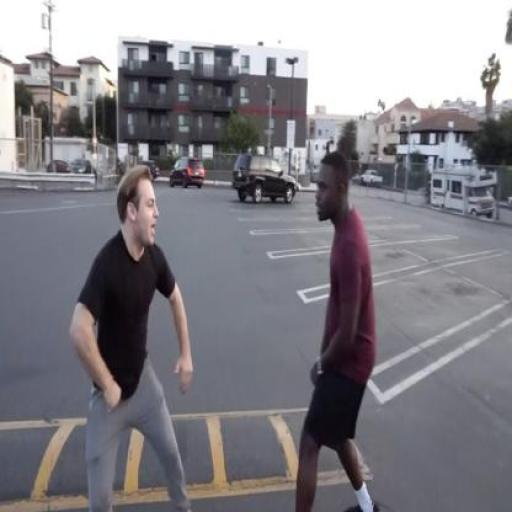Fighting: (68, 152, 374, 512)
